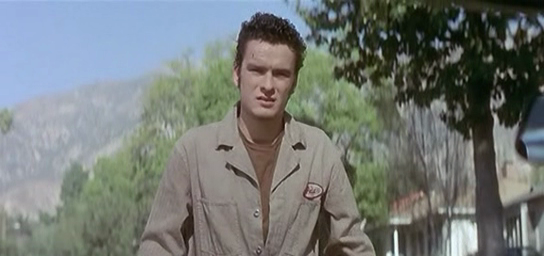face: (241, 40, 295, 119)
ms: (1, 1, 544, 256)
person: (136, 12, 377, 255)
